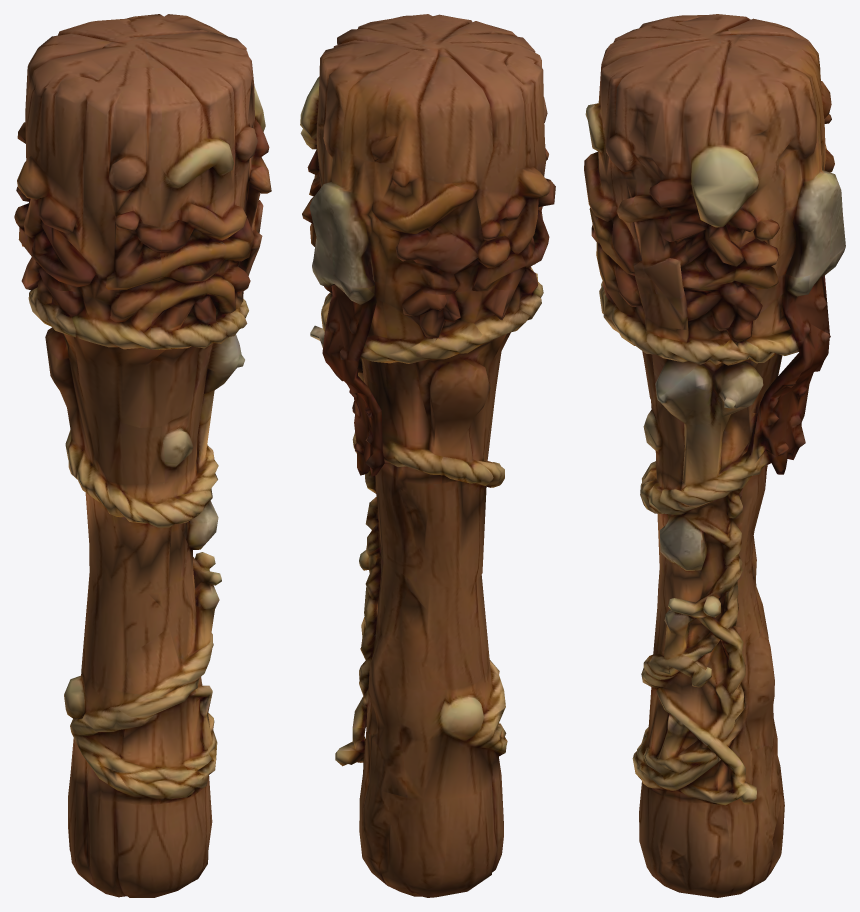
Rendered from garrote.glb.
3 renders of one model, left to right at view 1: azimuth 30°, elevation 25°; view 2: azimuth 150°, elevation 25°; view 3: azimuth 270°, elevation 25°, orthographic.
Visible parts, largest first — view 1: tripo_node_adb7d8e7-54b0-4138-bce6-a7443b790877; view 2: tripo_node_adb7d8e7-54b0-4138-bce6-a7443b790877; view 3: tripo_node_adb7d8e7-54b0-4138-bce6-a7443b790877.
Boxes of the visible parts, x1,y1,x2,y2 form: tripo_node_adb7d8e7-54b0-4138-bce6-a7443b790877: (14,14,271,897); tripo_node_adb7d8e7-54b0-4138-bce6-a7443b790877: (300,14,555,897); tripo_node_adb7d8e7-54b0-4138-bce6-a7443b790877: (584,14,845,897).
Bounding box in the file's own units: 0.2982 × 0.9995 × 0.283.
1 material, 1 textured.
